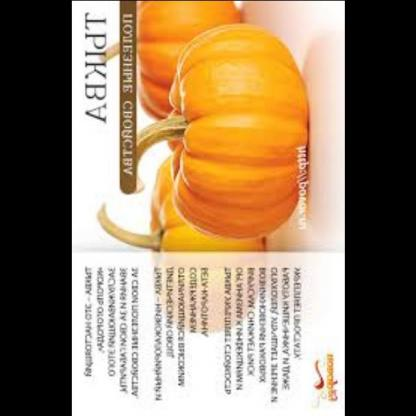pumpkin: (158, 16, 318, 244), (126, 0, 245, 125), (146, 152, 262, 256)
